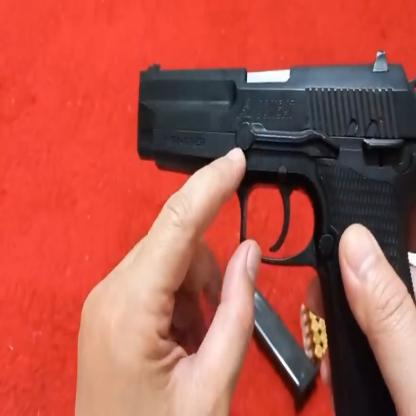handgun: (135, 52, 416, 410)
